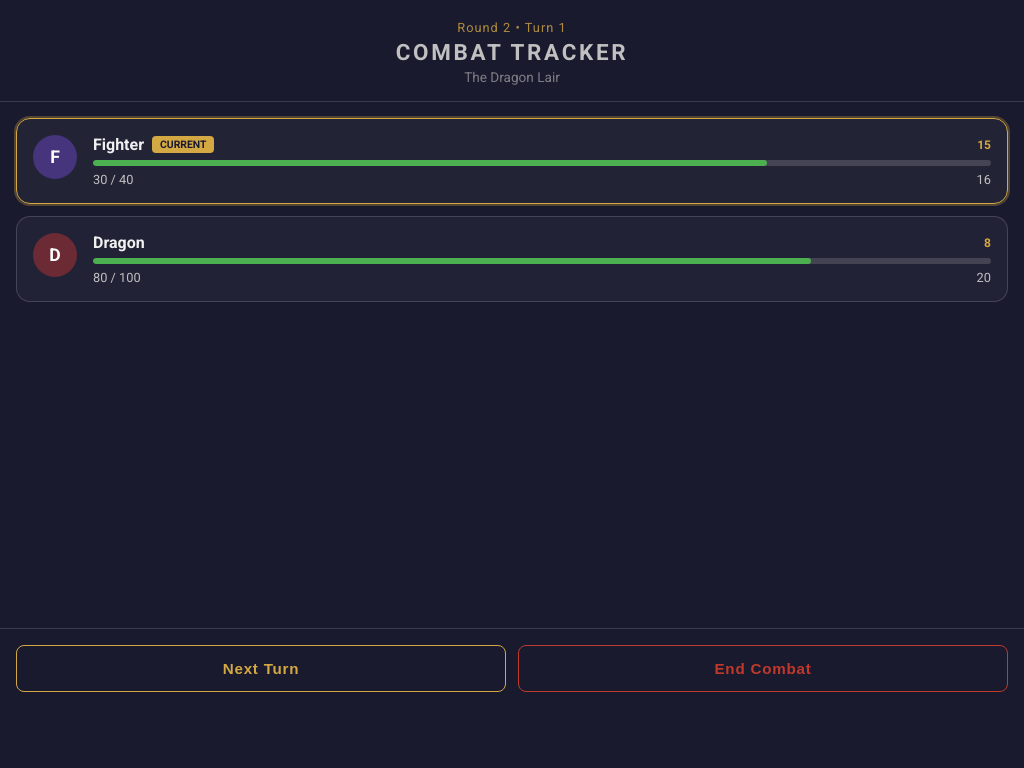
it: CombatActiveComponent › opens action manager when a non-active creature is clicked
Click the button with class "combatant-card" showing "D Dragon 8 80 / 100 20".
click(512, 259)  # box [16, 216, 1008, 302]
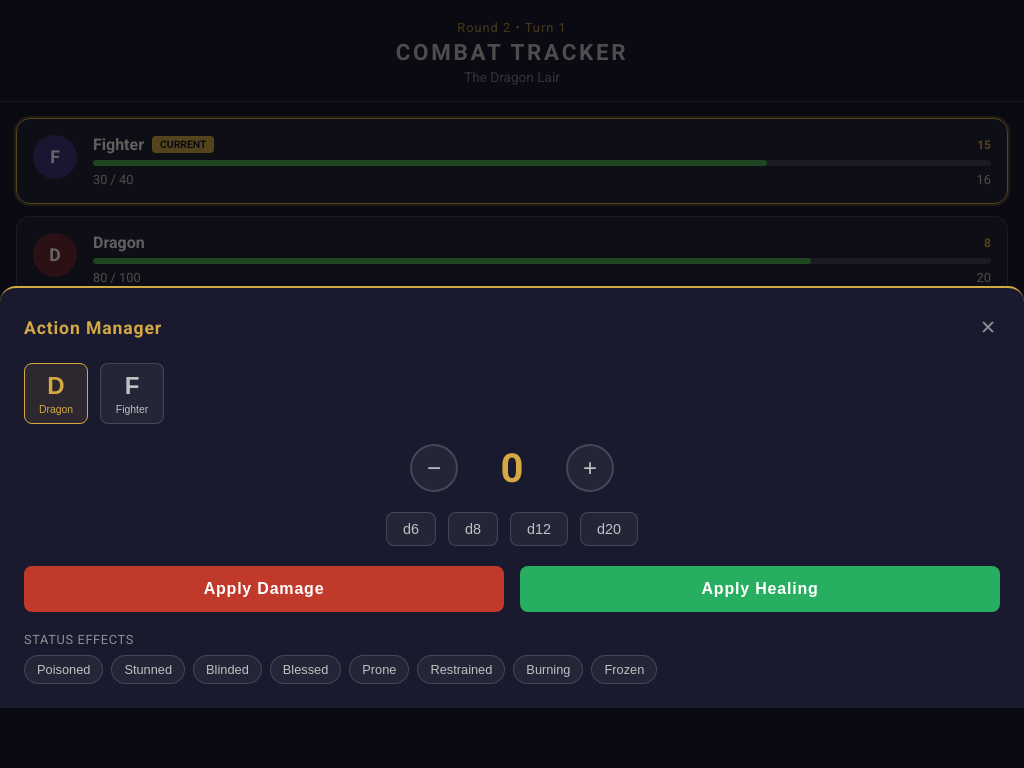
Expected: the element with class "action-manager-panel" is shown, [0, 286, 1023, 708]
